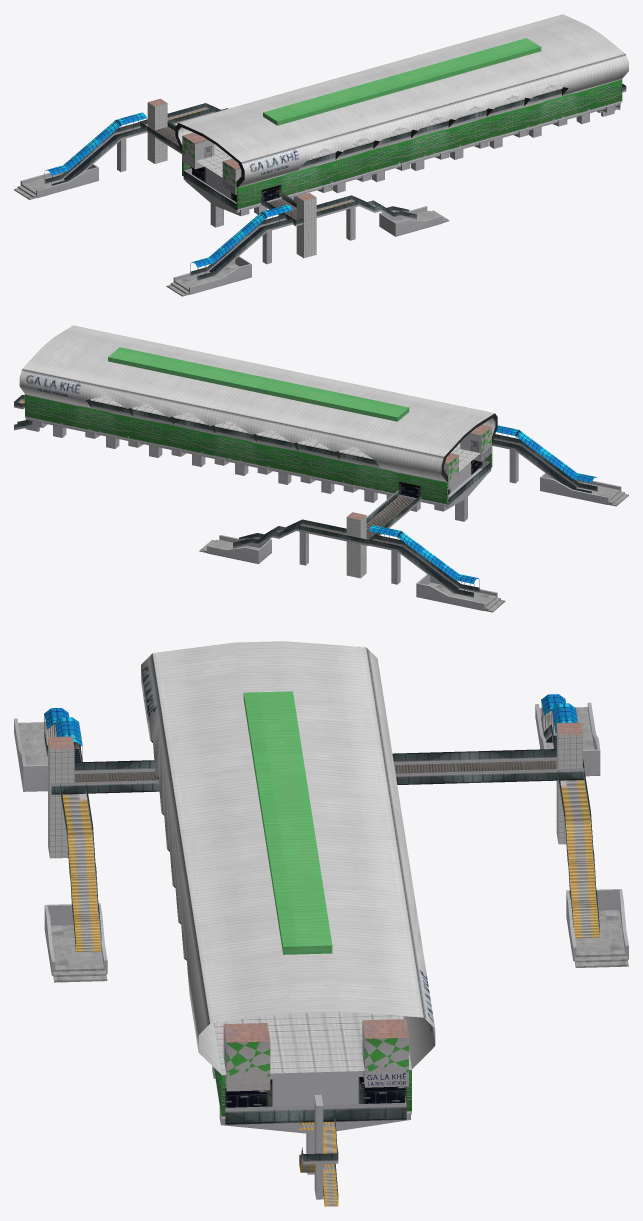
The picture shows the model from 3 angles, top to bottom: view 1: azimuth 30°, elevation 25°; view 2: azimuth 150°, elevation 25°; view 3: azimuth 270°, elevation 25°; orthographic projection. The views are drawn at different scales.
Visible parts, largest first — view 1: HN1264___La_Khe_Metro_Station; view 2: HN1264___La_Khe_Metro_Station; view 3: HN1264___La_Khe_Metro_Station.
Boxes of the visible parts, x1=… form: HN1264___La_Khe_Metro_Station: x1=14, y1=14, x2=628, y2=296; HN1264___La_Khe_Metro_Station: x1=14, y1=325, x2=628, y2=612; HN1264___La_Khe_Metro_Station: x1=14, y1=641, x2=628, y2=1206.
Bounding box in the file's own units: 134 × 22.19 × 70.01.
1 material, 1 textured.
